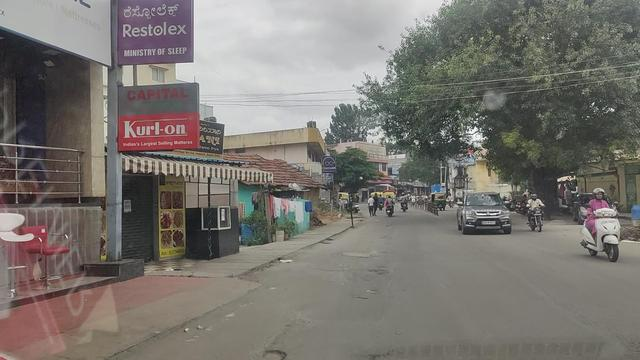RoadDamages: (257, 317, 308, 359), (319, 265, 362, 287), (335, 247, 382, 260), (366, 263, 392, 279), (365, 349, 399, 360)
